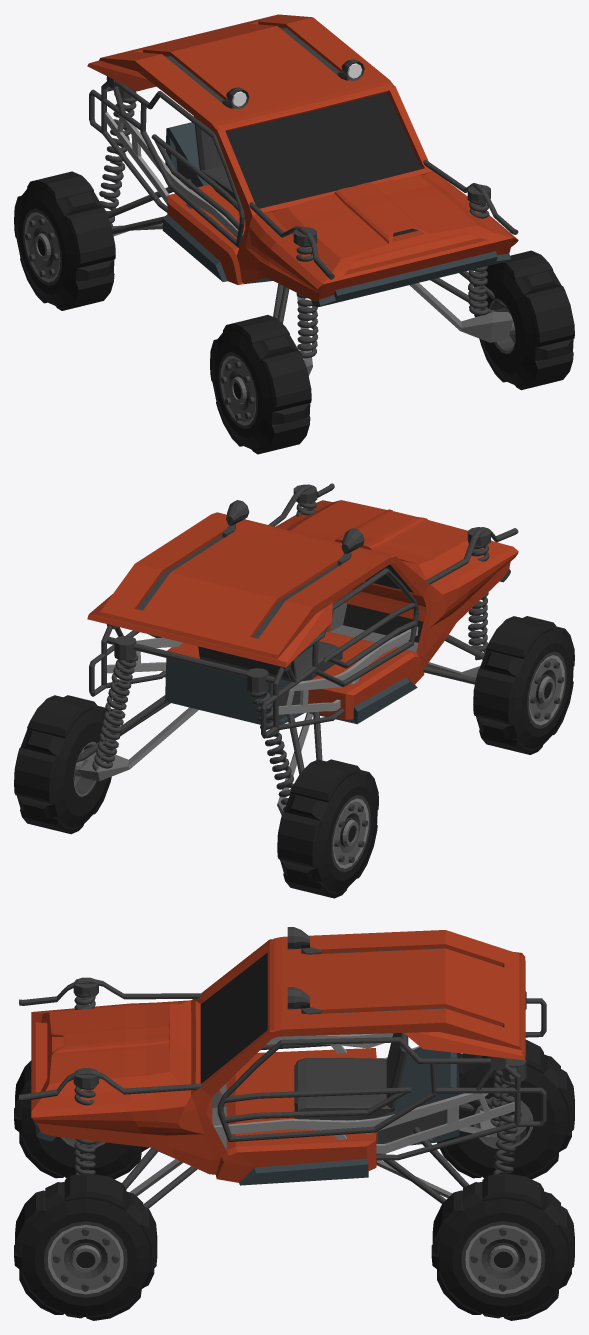
3 views of the same model, one above another, from view 1: azimuth 30°, elevation 25°; view 2: azimuth 150°, elevation 25°; view 3: azimuth 270°, elevation 25° (orthographic). The views are drawn at different scales.
Parts seen in each view (by area): view 1: Cube.227, Tyre.022, Tyre.023, Helix.007, Helix.008, Helix.009, Body.023, Cylinder.028; view 2: Cube.227, Tyre.023, Tyre.022, Helix.009, Helix.008, Helix.007, Cylinder.032, Body.023, Cylinder.028; view 3: Cube.227, Tyre.023, Tyre.022, Helix.009, Helix.007, Helix.008, Body.023, Cylinder.028, Cylinder.032.
Part boxes in pixels (left/top/right/bottom): Cube.227: left=87, top=14, right=518, bottom=323; Tyre.022: left=210, top=250, right=574, bottom=454; Tyre.023: left=14, top=171, right=115, bottom=310; Helix.007: left=296, top=198, right=489, bottom=358; Helix.008: left=112, top=223, right=513, bottom=375; Helix.009: left=99, top=97, right=136, bottom=227; Body.023: left=222, top=59, right=364, bottom=109; Cylinder.028: left=293, top=184, right=490, bottom=246; Cube.227: left=76, top=483, right=518, bottom=774; Tyre.023: left=14, top=695, right=378, bottom=898; Tyre.022: left=473, top=616, right=574, bottom=754; Helix.009: left=92, top=654, right=293, bottom=811; Helix.008: left=76, top=662, right=480, bottom=815; Helix.007: left=296, top=496, right=489, bottom=660; Cylinder.032: left=106, top=624, right=291, bottom=692; Body.023: left=222, top=500, right=364, bottom=565; Cylinder.028: left=293, top=484, right=490, bottom=545; Cube.227: left=19, top=930, right=546, bottom=1208; Tyre.023: left=431, top=1039, right=574, bottom=1320; Tyre.022: left=14, top=1060, right=157, bottom=1320; Helix.009: left=490, top=1069, right=520, bottom=1174; Helix.007: left=74, top=993, right=95, bottom=1174; Helix.008: left=129, top=1110, right=514, bottom=1198; Body.023: left=287, top=927, right=321, bottom=1014; Cylinder.028: left=73, top=977, right=98, bottom=1087; Cylinder.032: left=490, top=991, right=526, bottom=1082.
Bounding box in the file's own units: 0.8523 × 0.6997 × 1.24.
Materials: 2 (2 with a texture image).
